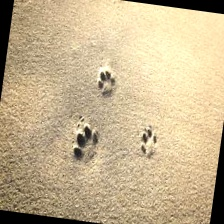cat: (68, 122, 103, 166), (91, 68, 122, 102)
